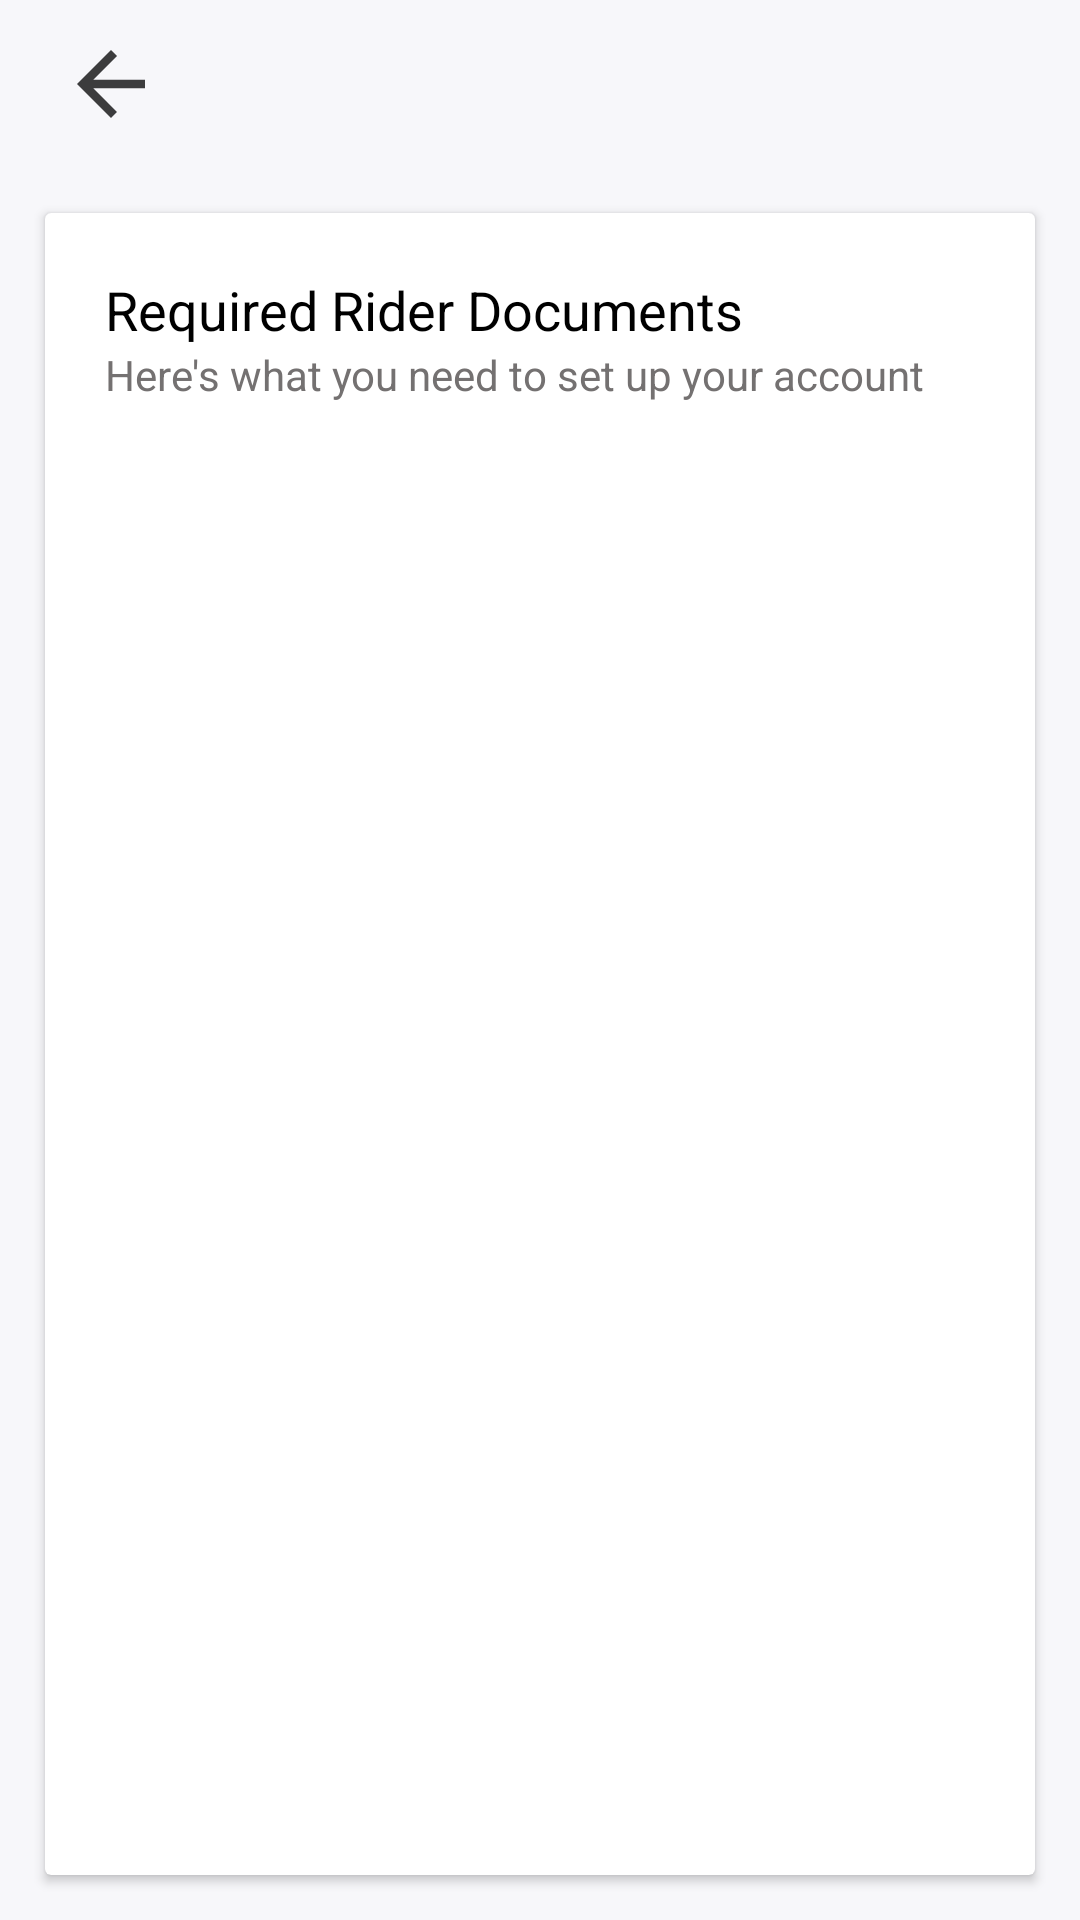

Screen size 1080 x 1920. Icon name, then its center in pixels as (x,y):
arrow back: (111,84)
